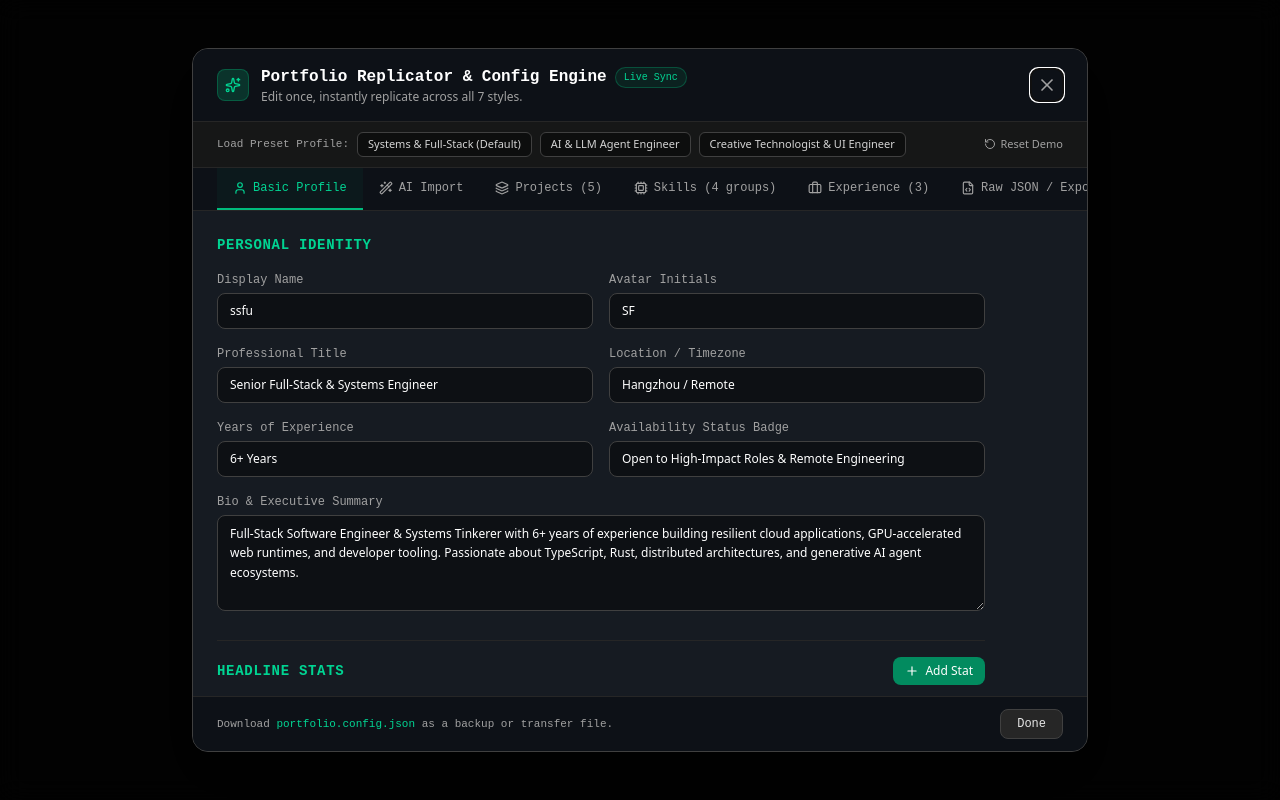
ConfigCustomizerModal — AI Import tab › defaults to DeepSeek and swaps the endpoint when another provider is picked
Click the button "AI Import" at (421, 189), box [363,168,479,210]
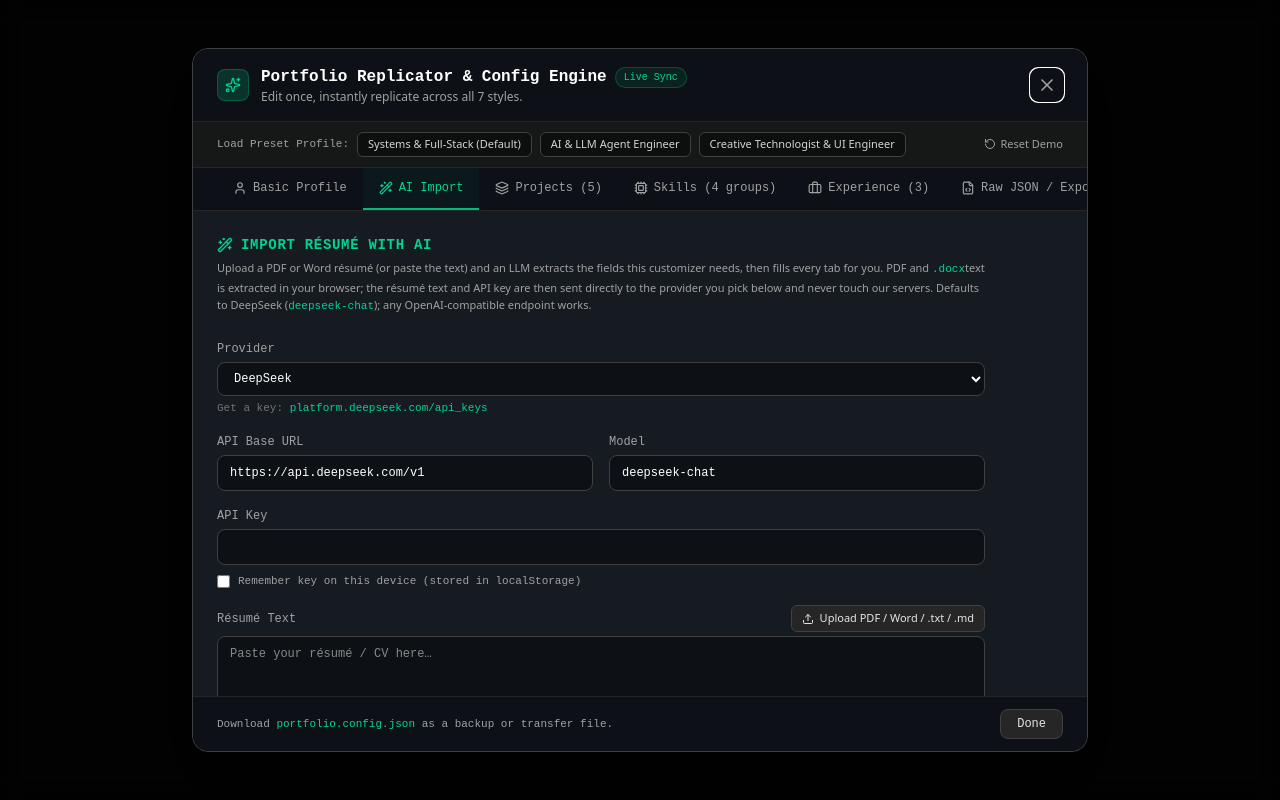
Expected: the dropdown labelled "Provider" shows "DeepSeek"
Expected: the field labelled "API Base URL" holds "https://api.deepseek.com/v1", [217,455,593,491]
Select "OpenAI" in the dropdown labelled "Provider" at (601, 379), box [217,362,985,396]
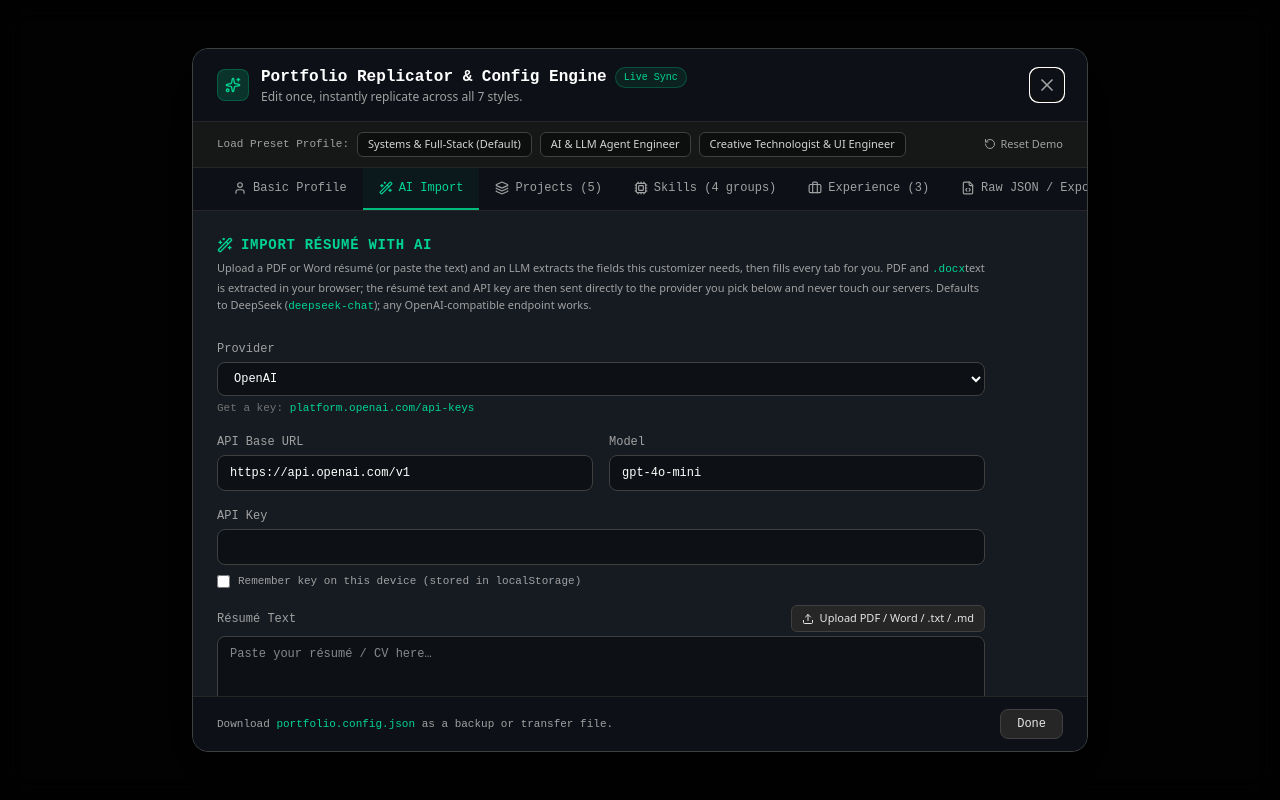
Expected: the field labelled "API Base URL" holds "https://api.openai.com/v1", [217,455,593,491]
Expected: the field labelled "Model" holds "gpt-4o-mini", [609,455,985,491]
